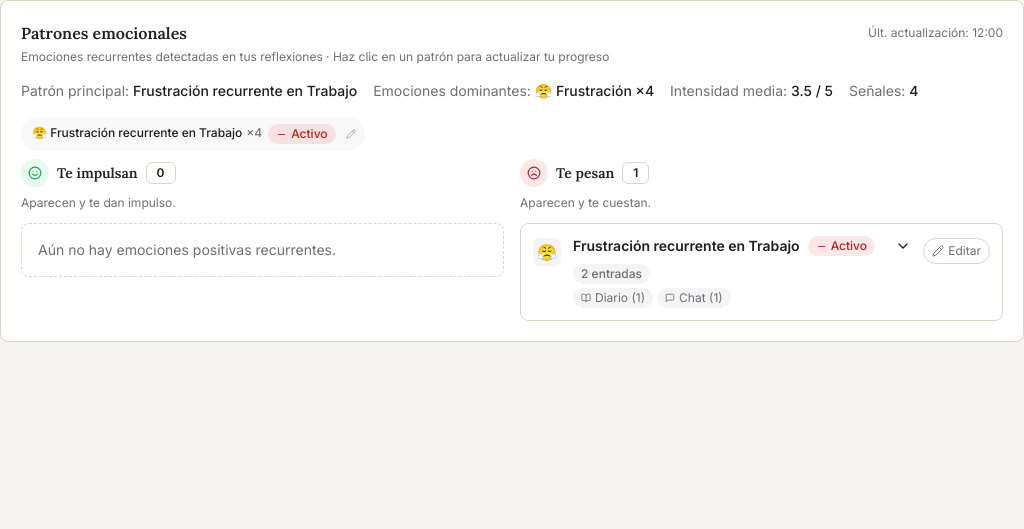
EmotionalPatternsPanel › groups repeated emotional entries under one pattern and deduplicates pattern chips
Expected: the 2nd text "Frustración recurrente en Trabajo" is shown, [573,236,800,256]
Expected: the text "2 entradas" is shown, [573,264,650,284]
Step 1. Click the button "Frustración recurrente en Trabajo" → (686, 246), box [533,236,911,308]
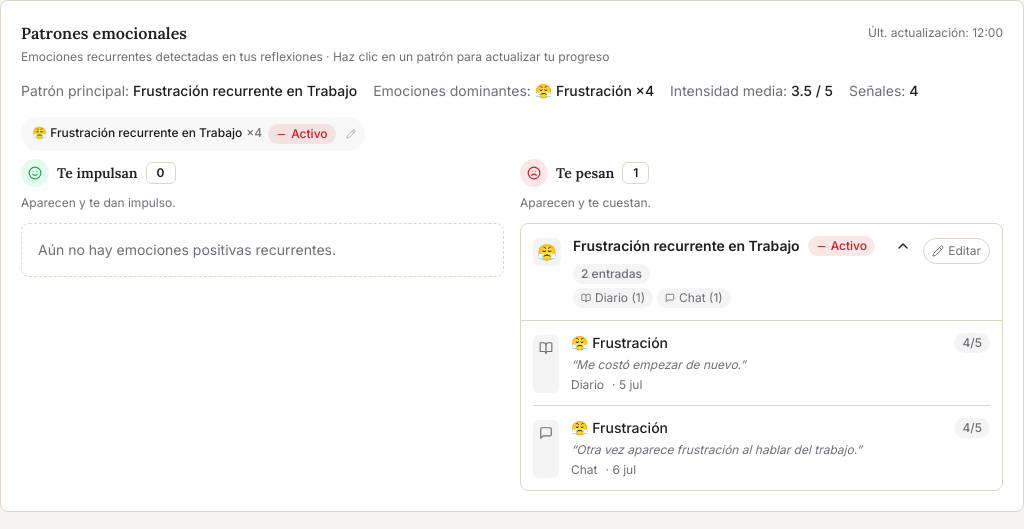
Expected: the text "“Me costó empezar de nuevo.”" is shown, [571,357,746,372]
Expected: the text "“Otra vez aparece frustración al hablar del trabajo.”" is shown, [571,442,862,457]
